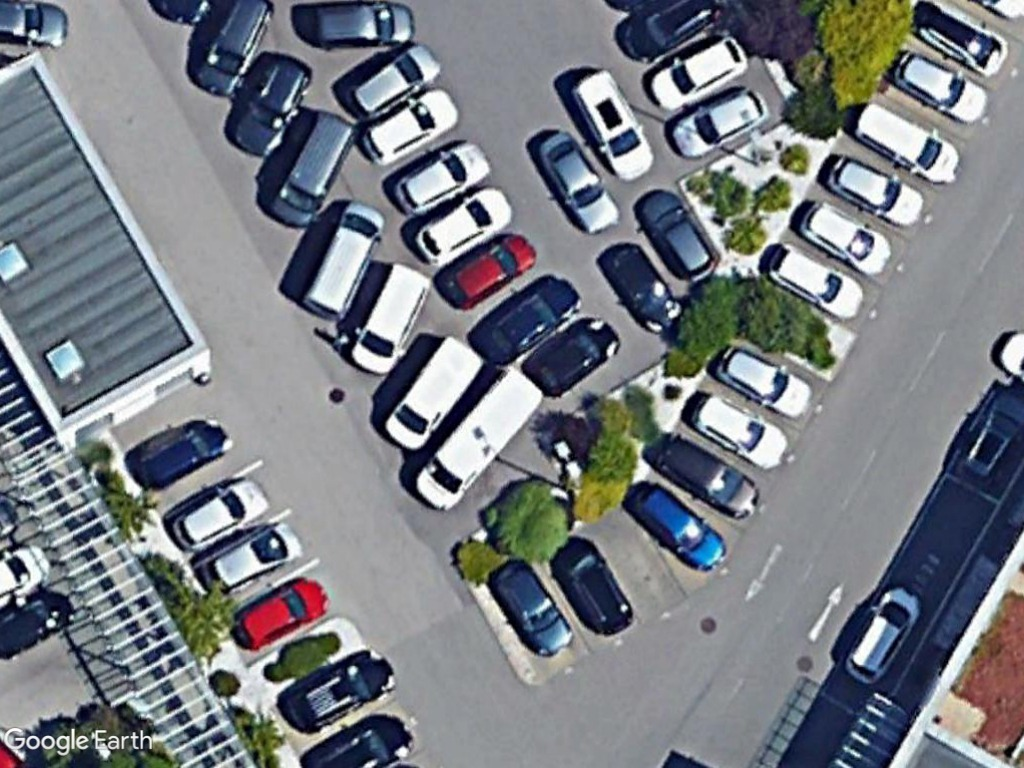car: (651, 426, 765, 525), (277, 646, 400, 737), (625, 475, 733, 576), (533, 122, 626, 239), (709, 332, 818, 426), (487, 554, 578, 662), (839, 579, 929, 687), (476, 273, 581, 365), (882, 42, 994, 128), (682, 385, 791, 473), (229, 569, 340, 655), (642, 30, 753, 116), (547, 531, 638, 635), (762, 236, 867, 324), (357, 83, 460, 172), (666, 78, 775, 162), (132, 408, 239, 493), (791, 191, 895, 278), (229, 54, 315, 159), (410, 181, 512, 268), (195, 515, 306, 594), (825, 148, 929, 232), (438, 227, 536, 315), (388, 134, 489, 219), (594, 245, 686, 337), (166, 471, 273, 550), (631, 188, 718, 284), (347, 36, 444, 122), (910, 1, 1013, 80), (527, 310, 622, 395), (302, 4, 425, 52)
van: (404, 357, 546, 512), (379, 334, 489, 455), (270, 102, 359, 233), (566, 61, 657, 185), (344, 256, 436, 378), (296, 197, 387, 319), (851, 97, 964, 186)
